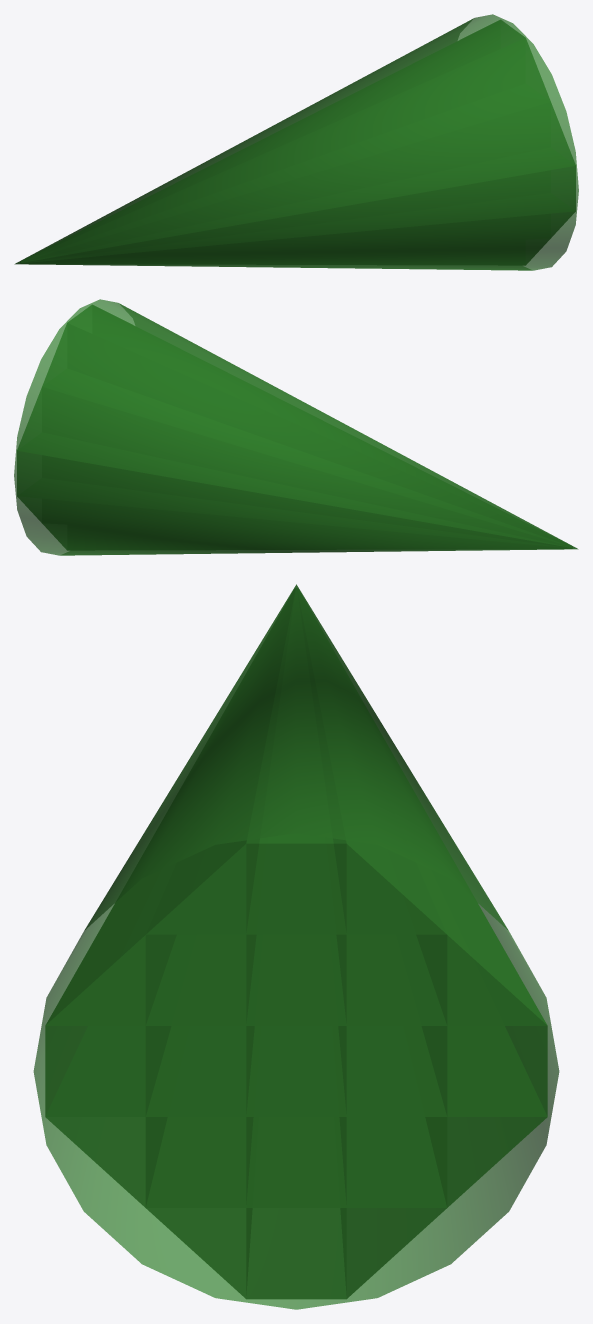
3 views of the same model, one above another, from view 1: azimuth 30°, elevation 25°; view 2: azimuth 150°, elevation 25°; view 3: azimuth 270°, elevation 25° (orthographic). The views are drawn at different scales.
Parts seen in each view (by area): view 1: RadarCone, polySurface9, polySurface5, polySurface39, polySurface3, polySurface40, polySurface37; view 2: RadarCone, polySurface15, polySurface13, polySurface21, polySurface3, polySurface23, polySurface29; view 3: RadarCone, polySurface3, polySurface11, polySurface9, polySurface5, polySurface13, polySurface15, polySurface37, polySurface33, polySurface7, polySurface25, polySurface17 (+10 smaller).
Boxes of the visible parts, left/top/right/bottom form: RadarCone: left=14, top=14, right=578, bottom=270; polySurface9: left=21, top=102, right=575, bottom=262; polySurface5: left=21, top=38, right=550, bottom=261; polySurface39: left=24, top=166, right=575, bottom=262; polySurface3: left=26, top=20, right=524, bottom=258; polySurface40: left=26, top=211, right=575, bottom=263; polySurface37: left=29, top=238, right=550, bottom=265; RadarCone: left=14, top=299, right=578, bottom=555; polySurface15: left=17, top=387, right=571, bottom=547; polySurface13: left=42, top=323, right=571, bottom=546; polySurface21: left=17, top=451, right=568, bottom=547; polySurface3: left=68, top=305, right=568, bottom=544; polySurface23: left=17, top=496, right=566, bottom=548; polySurface29: left=42, top=523, right=563, bottom=550; RadarCone: left=33, top=584, right=559, bottom=1309; polySurface3: left=246, top=588, right=346, bottom=934; polySurface11: left=339, top=841, right=447, bottom=1025; polySurface9: left=45, top=590, right=293, bottom=1025; polySurface5: left=146, top=589, right=295, bottom=934; polySurface13: left=297, top=589, right=446, bottom=934; polySurface15: left=299, top=590, right=547, bottom=1025; polySurface37: left=146, top=1117, right=251, bottom=1298; polySurface33: left=246, top=1117, right=346, bottom=1299; polySurface7: left=145, top=842, right=255, bottom=1025; polySurface25: left=340, top=1027, right=447, bottom=1207; polySurface17: left=246, top=935, right=346, bottom=1116.
Bounding box in the file's own units: 11.47 × 5.23 × 5.23.
